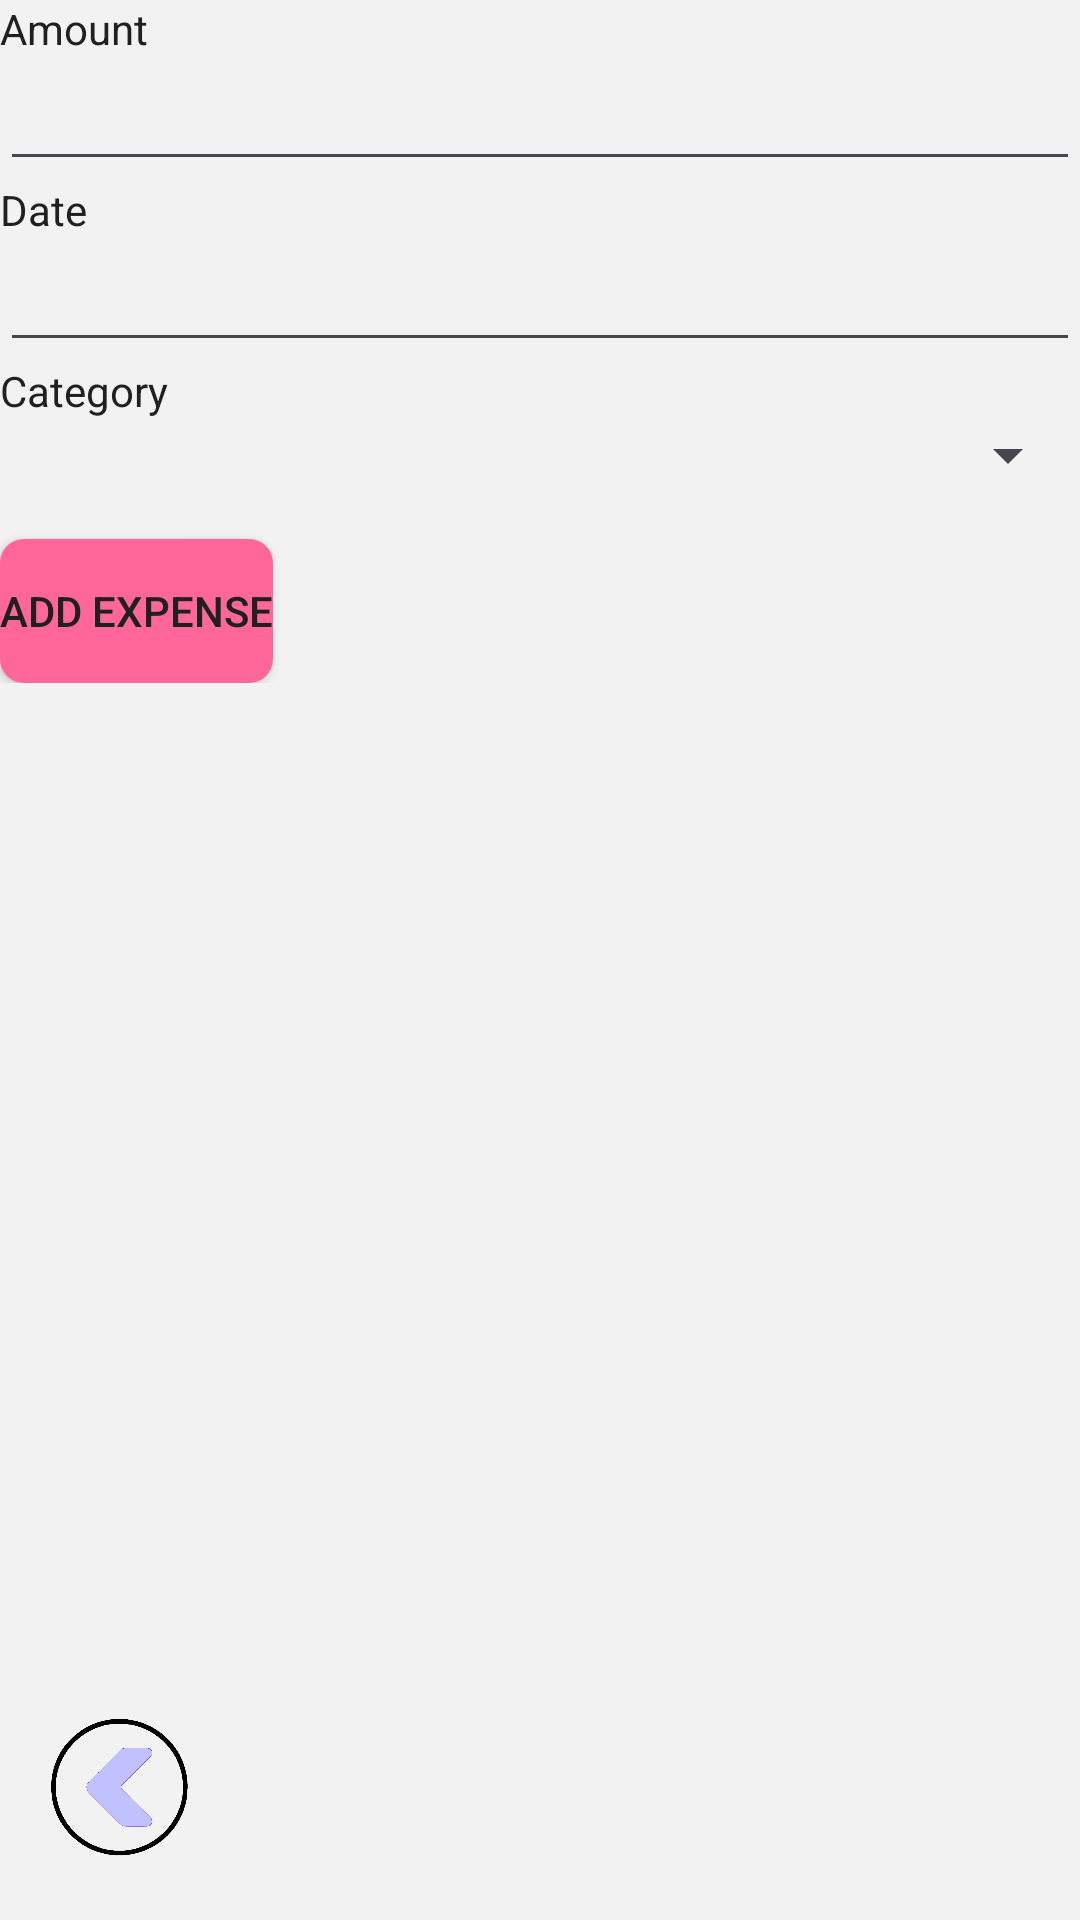

Icon bounding boxes for this 1080*1920 phone screenshot, format (x1, y1, x2, y2):
back: (51, 1719, 188, 1855)
